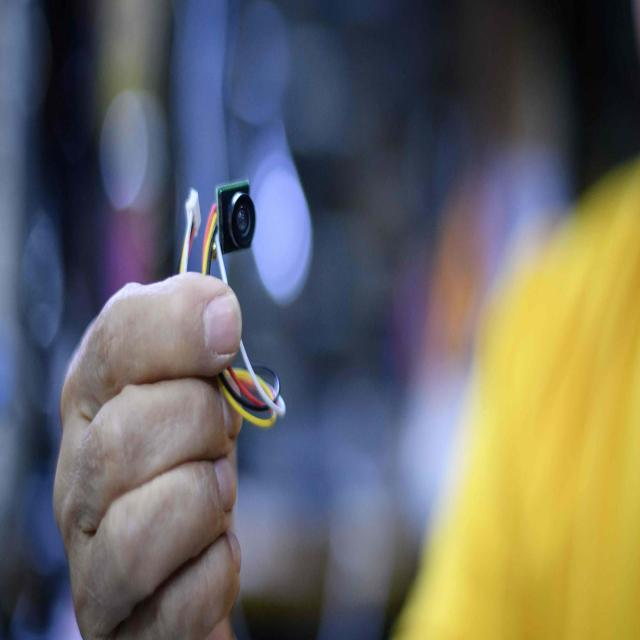hidden camera: (236, 202, 251, 237)
